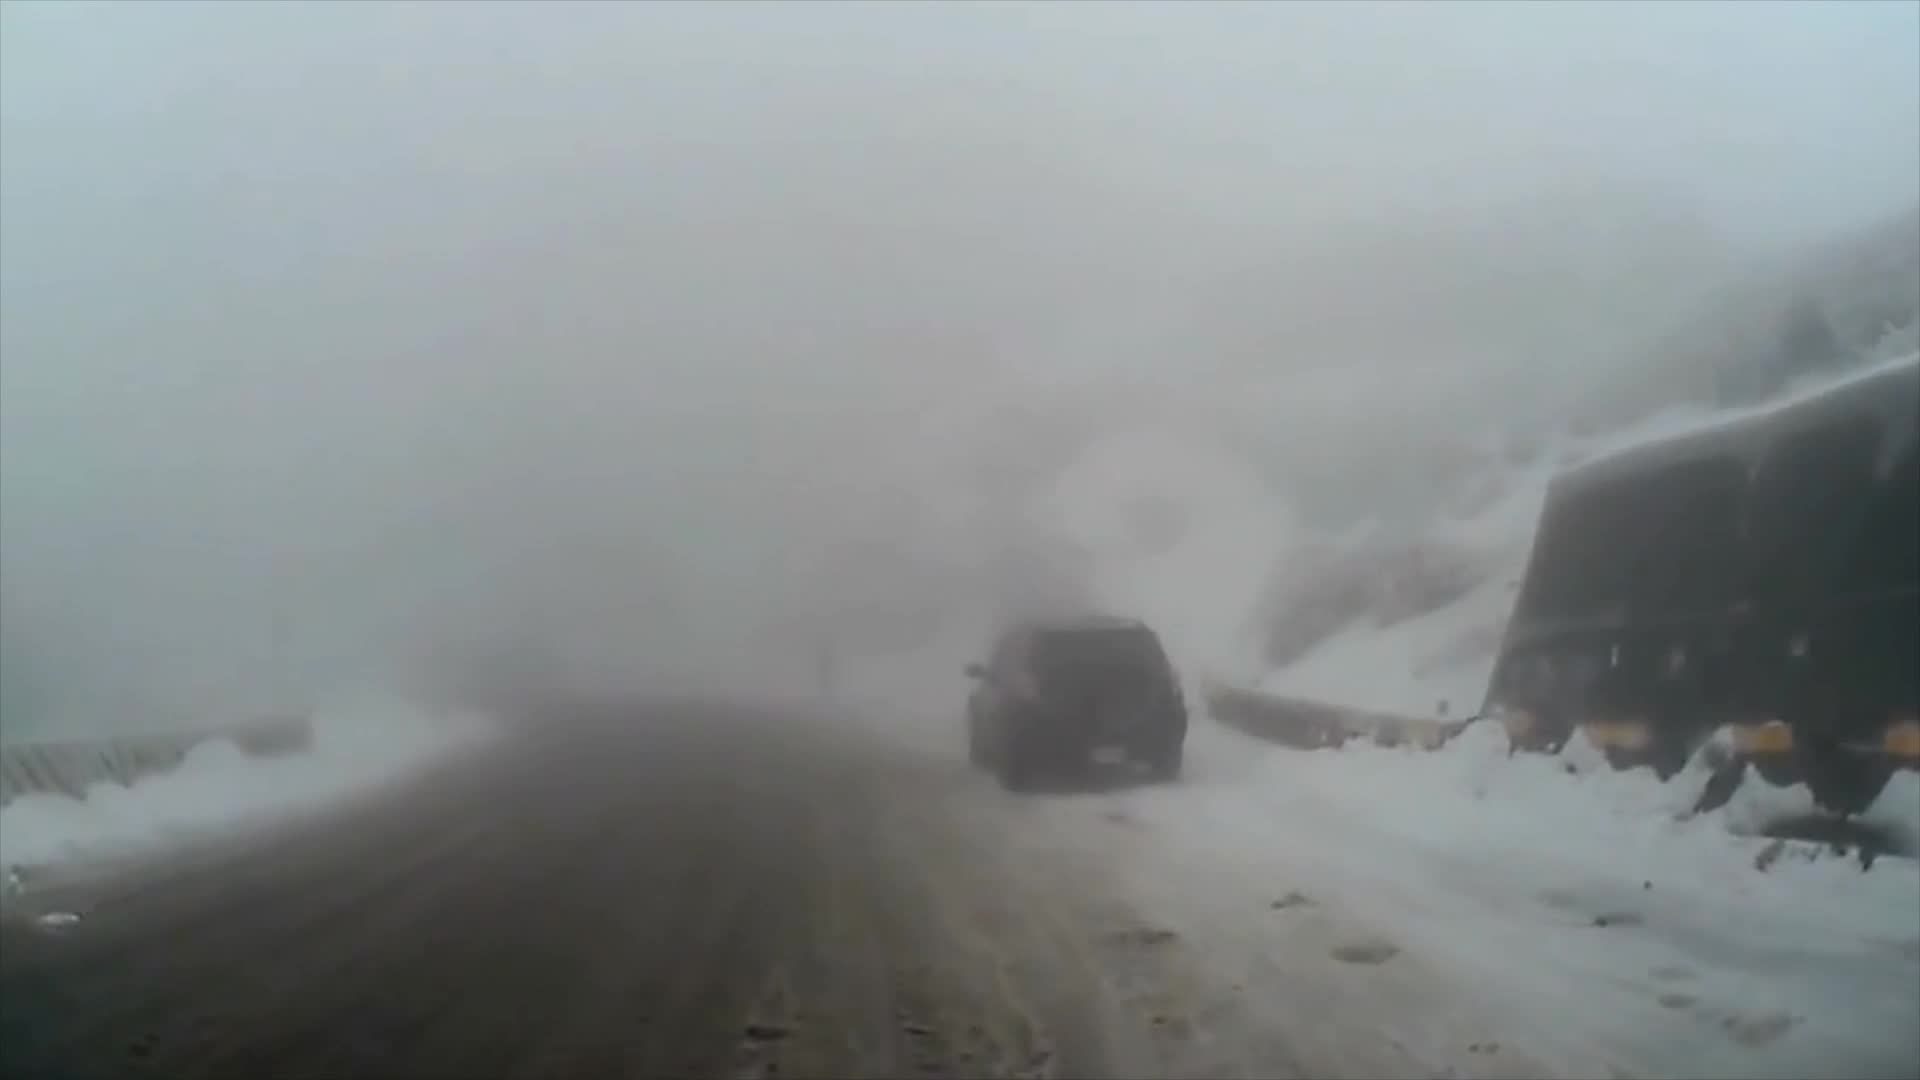vehicle: (961, 609, 1185, 791)
